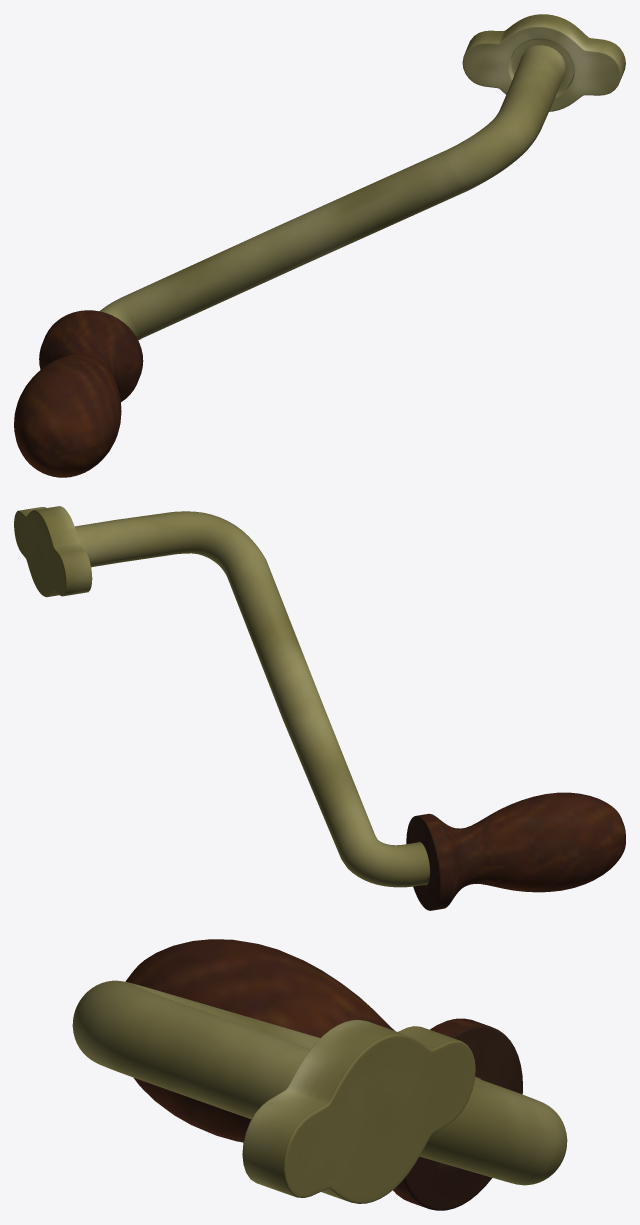
Rendered from manivela.obj.
3 views of the same model, one above another, from view 1: azimuth 30°, elevation 25°; view 2: azimuth 150°, elevation 25°; view 3: azimuth 270°, elevation 25° (orthographic). The views are drawn at different scales.
Parts seen in each view (by area): view 1: polySurface184 fonografo:_Victor_V_phonograph_v2polySurface67; view 2: polySurface184 fonografo:_Victor_V_phonograph_v2polySurface67; view 3: polySurface184 fonografo:_Victor_V_phonograph_v2polySurface67.
Part boxes in pixels (x1=…): polySurface184 fonografo:_Victor_V_phonograph_v2polySurface67: x1=14, y1=14, x2=625, y2=477; polySurface184 fonografo:_Victor_V_phonograph_v2polySurface67: x1=14, y1=506, x2=625, y2=910; polySurface184 fonografo:_Victor_V_phonograph_v2polySurface67: x1=72, y1=939, x2=567, y2=1210.
Bounding box in the file's own units: 1.13 × 0.5198 × 0.4153.
Materials: 1 (1 with a texture image).
